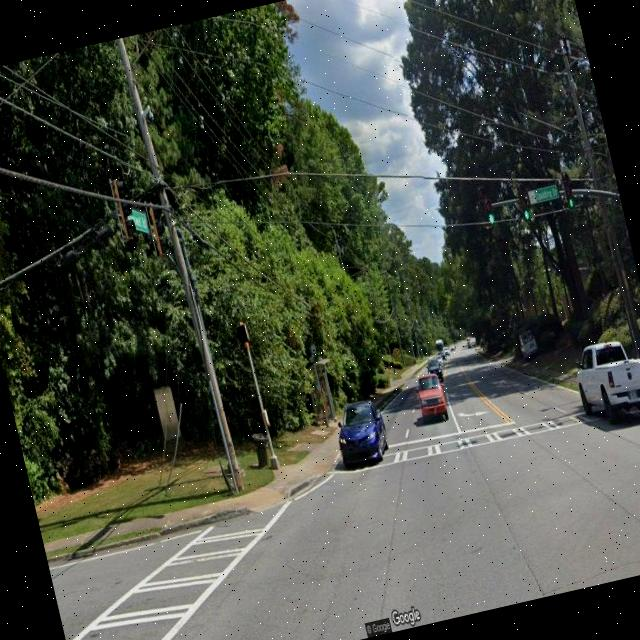shelter: (302, 357, 345, 429)
trash_can: (250, 429, 273, 468)
